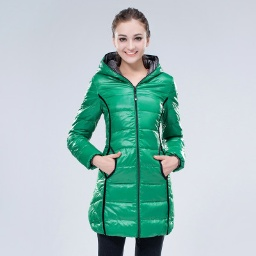face: (107, 4, 158, 68)
